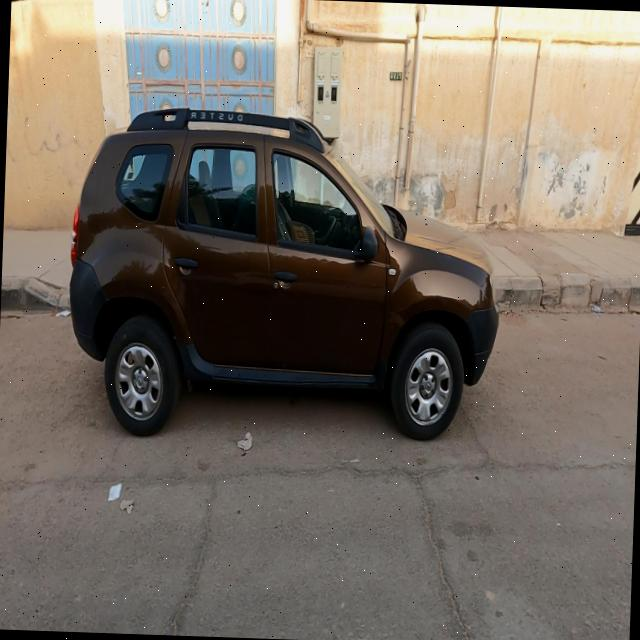Graffiti: (7, 112, 97, 170)
